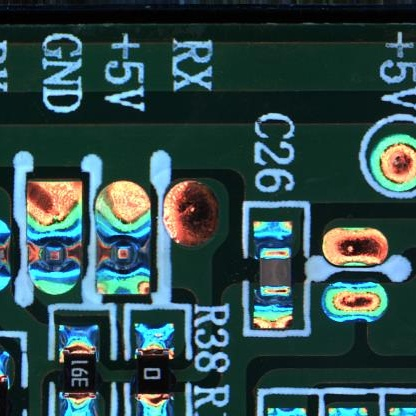spot: (26, 222, 82, 280), (97, 224, 151, 281), (322, 282, 389, 325), (370, 134, 416, 192), (323, 226, 389, 266), (1, 221, 12, 279)
